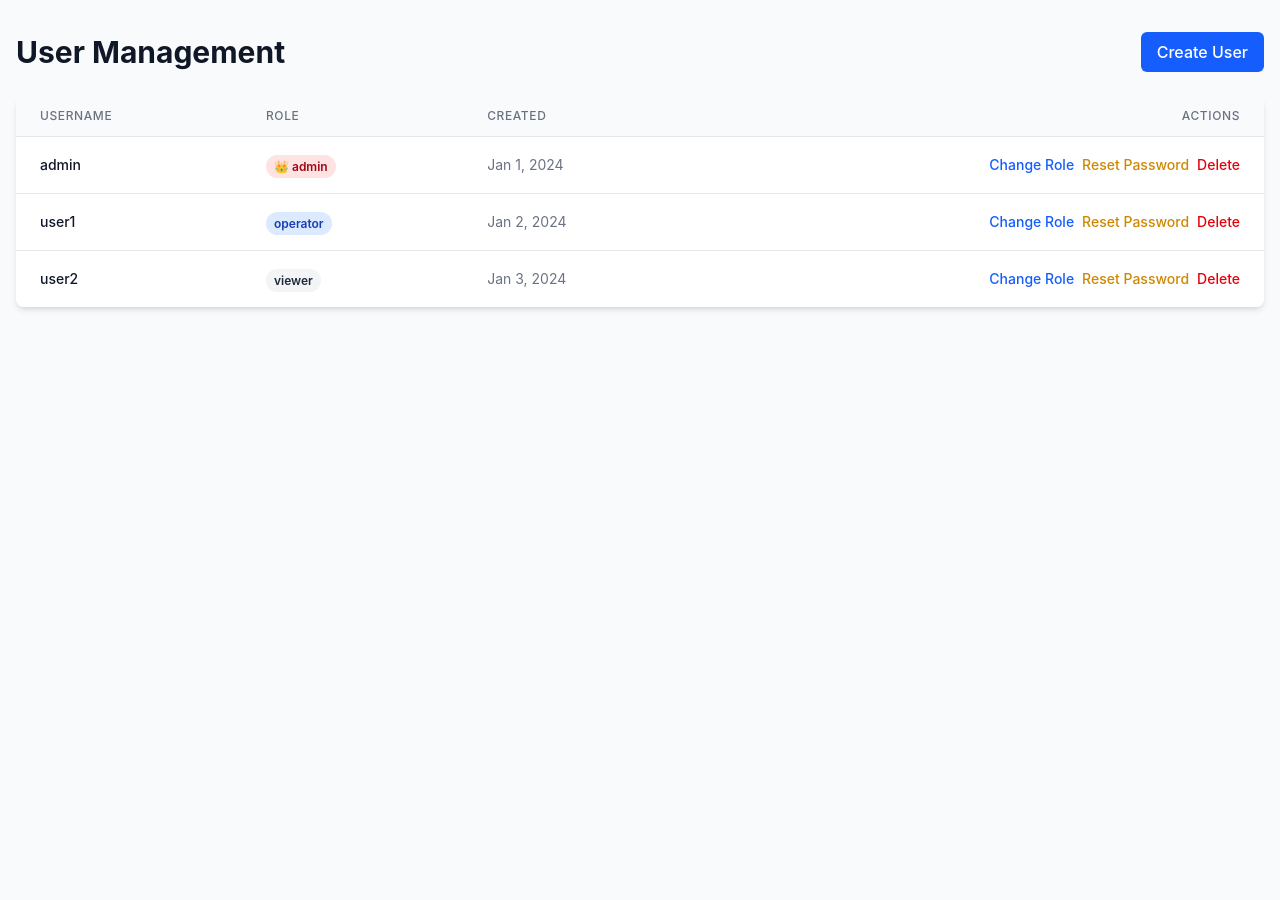
Test: UsersPage › Create User Flow › should open create modal when "Create User" button is clicked
Click the button "Create User" at (1202, 52), box 1141,32 -> 1264,72
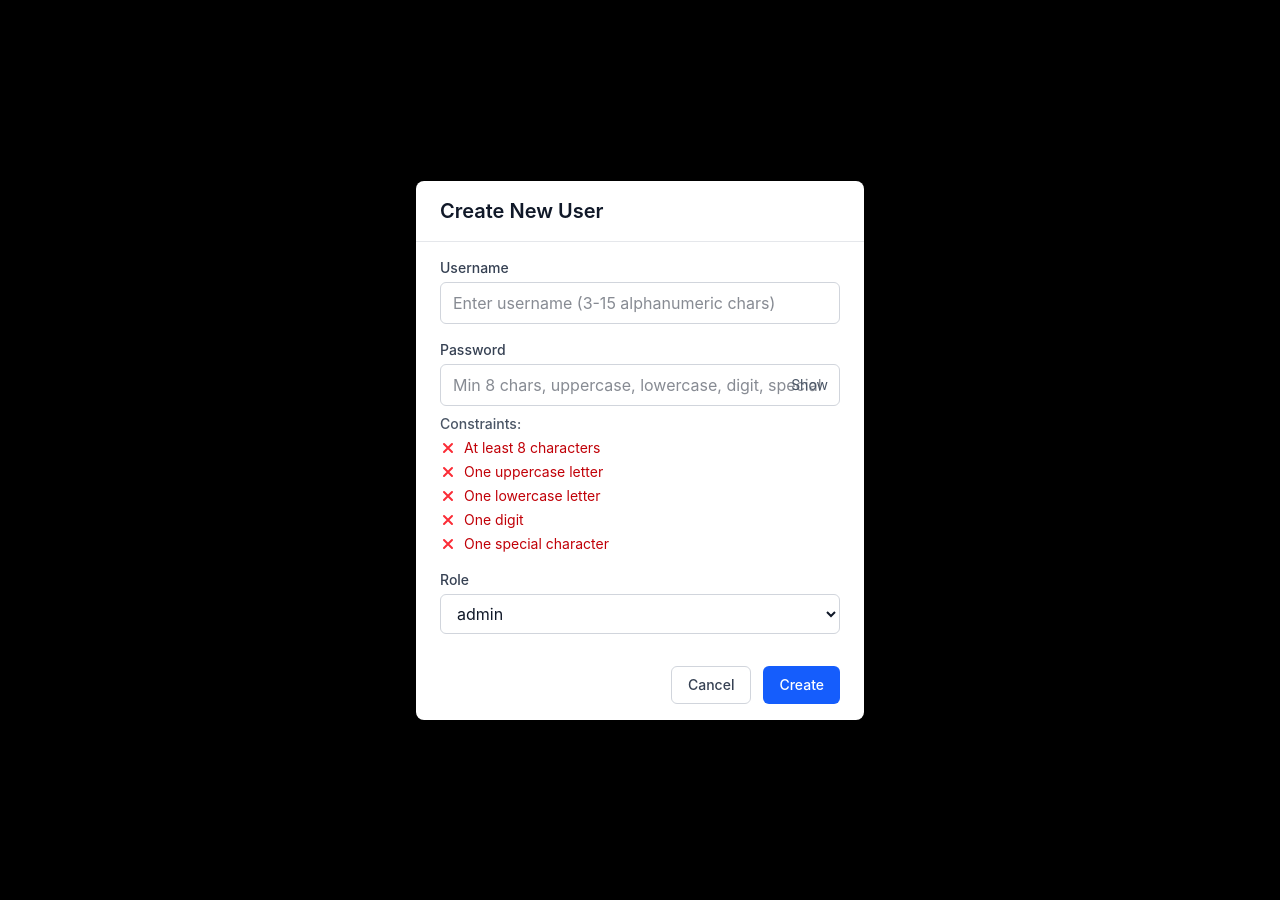
Result: the heading "Create New User" is shown at 440,198 -> 604,222
